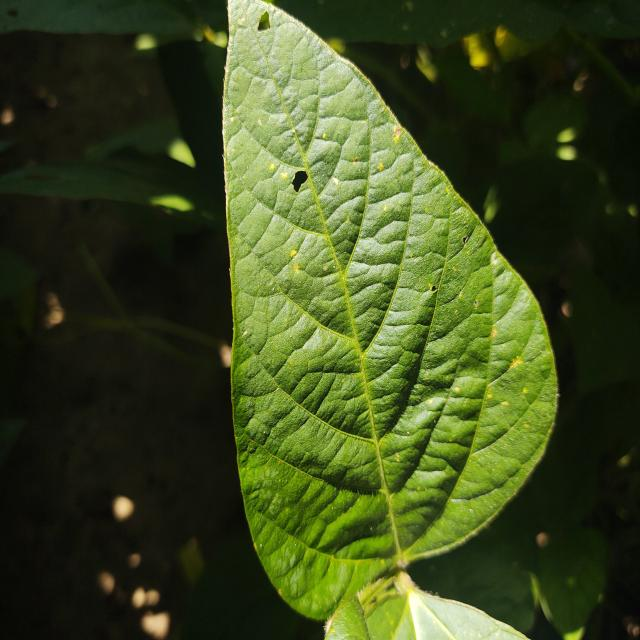Soybean: (210, 0, 561, 640)
downey_mildew: (406, 247, 559, 555), (339, 153, 426, 353), (411, 207, 492, 387), (271, 322, 388, 445), (460, 324, 552, 463), (360, 323, 436, 439), (307, 115, 374, 244), (232, 275, 305, 385), (240, 456, 331, 540), (279, 243, 363, 330), (229, 128, 303, 217), (423, 376, 495, 461), (273, 546, 355, 620), (374, 474, 452, 550), (231, 70, 295, 153), (488, 282, 545, 375), (312, 493, 394, 555), (364, 137, 419, 223), (272, 233, 336, 305), (404, 502, 486, 557), (246, 506, 315, 569), (273, 173, 340, 237), (339, 270, 399, 340), (285, 299, 367, 350), (319, 431, 392, 488), (405, 586, 461, 640), (433, 596, 500, 639), (317, 74, 369, 128), (363, 583, 411, 640), (293, 73, 322, 167), (288, 562, 307, 594)
